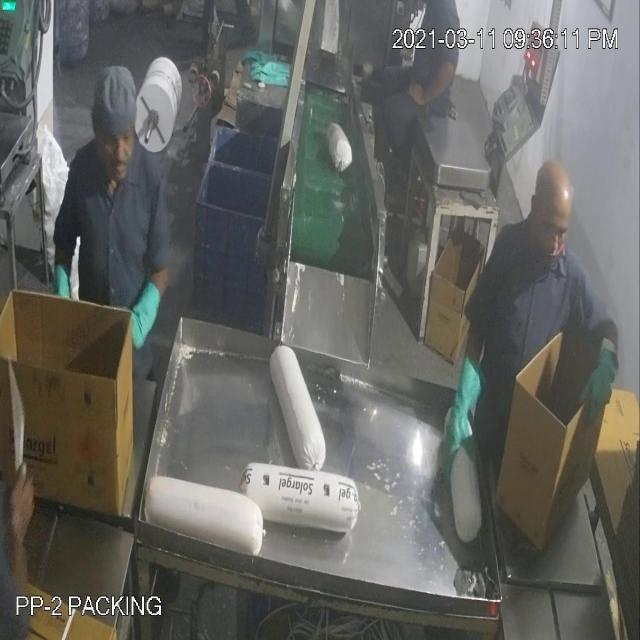Gloves: (27, 68, 602, 530)
